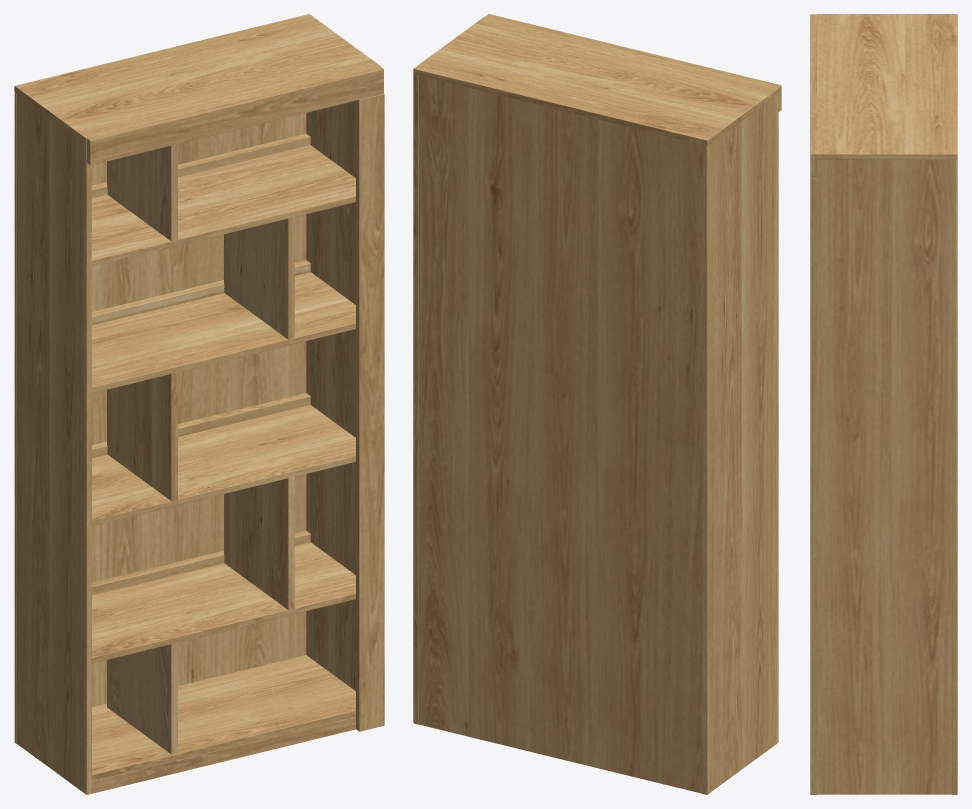
The model's file is bookcase-oak.glb.
3 renders of one model, left to right at view 1: azimuth 30°, elevation 25°; view 2: azimuth 150°, elevation 25°; view 3: azimuth 270°, elevation 25°, orthographic. The views are drawn at different scales.
Parts seen in each view (by area): view 1: B07JGY5LNV; view 2: B07JGY5LNV; view 3: B07JGY5LNV.
Part boxes in pixels (box(x1,y1,x2,y2)): B07JGY5LNV: box(14, 14, 384, 794); B07JGY5LNV: box(413, 14, 781, 794); B07JGY5LNV: box(810, 14, 957, 794).
Bounding box in the file's own units: 0.95 × 2.02 × 0.42.
1 material, 1 textured.
